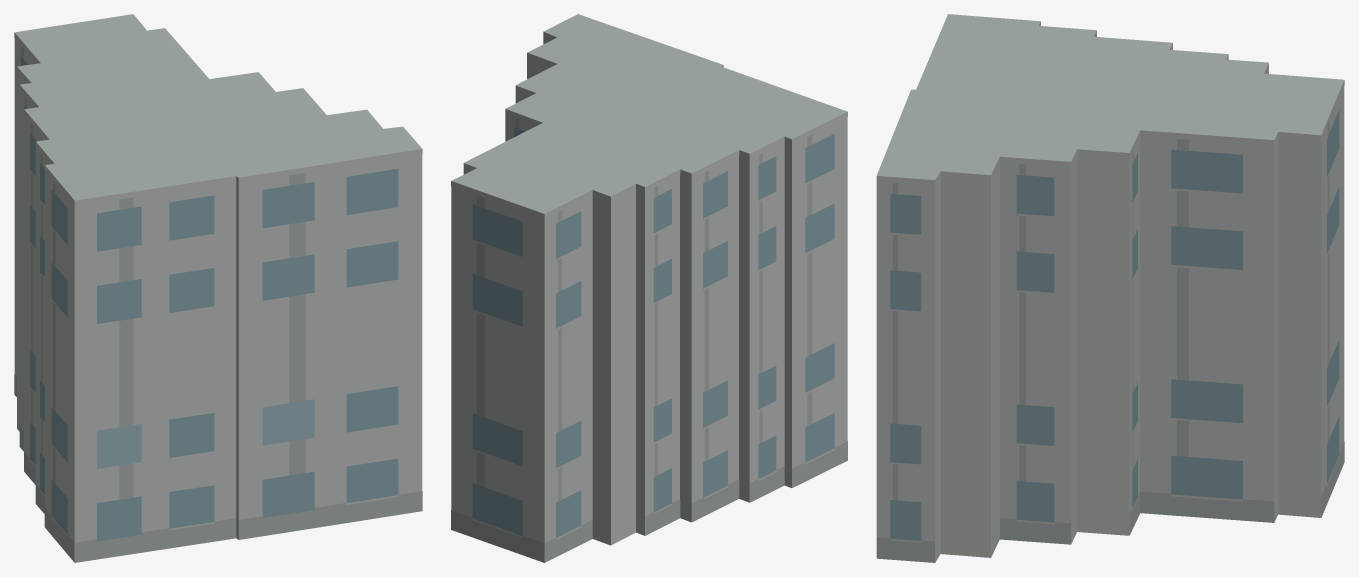
Rendered from survey-upis-32942579.glb.
3 renders of one model, left to right at view 1: azimuth 30°, elevation 25°; view 2: azimuth 150°, elevation 25°; view 3: azimuth 270°, elevation 25°, orthographic. The views are drawn at different scales.
Parts seen in each view (by area): view 1: survey-upis-32942579.tmp; view 2: survey-upis-32942579.tmp; view 3: survey-upis-32942579.tmp.
Part boxes in pixels (x1=…): survey-upis-32942579.tmp: x1=14, y1=14, x2=422, y2=562; survey-upis-32942579.tmp: x1=451, y1=14, x2=847, y2=562; survey-upis-32942579.tmp: x1=876, y1=14, x2=1344, y2=562.
Bounding box in the file's own units: 14.95 × 16.05 × 17.79.
